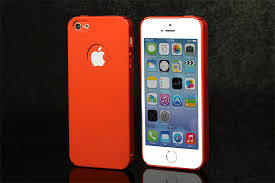iphone: (137, 12, 210, 173)
iphone5: (136, 11, 209, 172)
